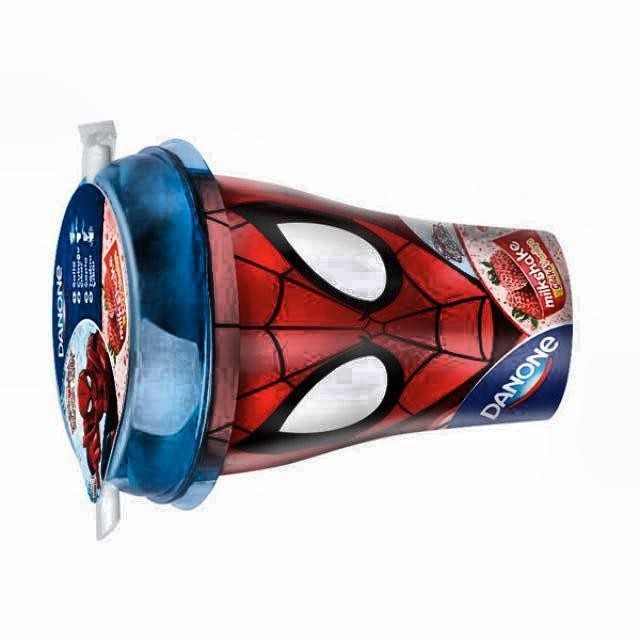plastic: (52, 140, 572, 507)
